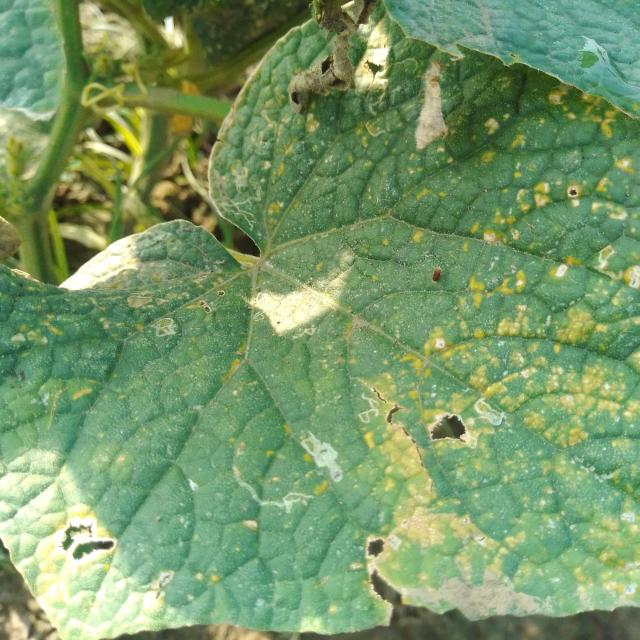cucumber_downy: (138, 120, 640, 631)
